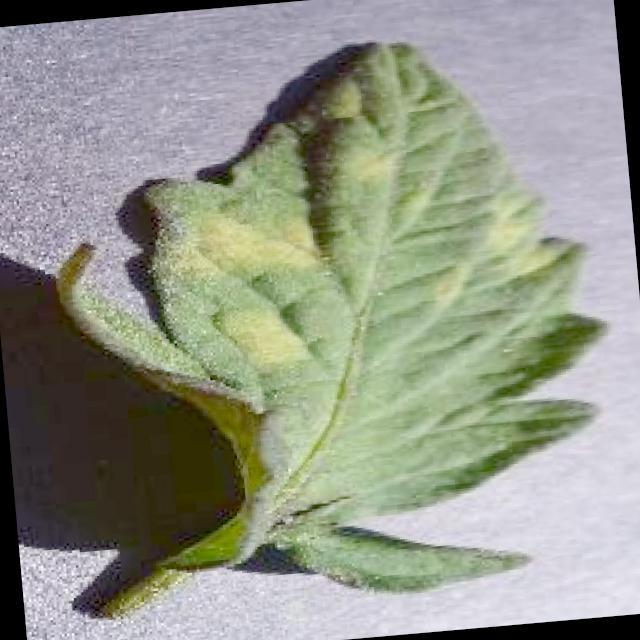Tomato mold leaf: (43, 22, 639, 622)
